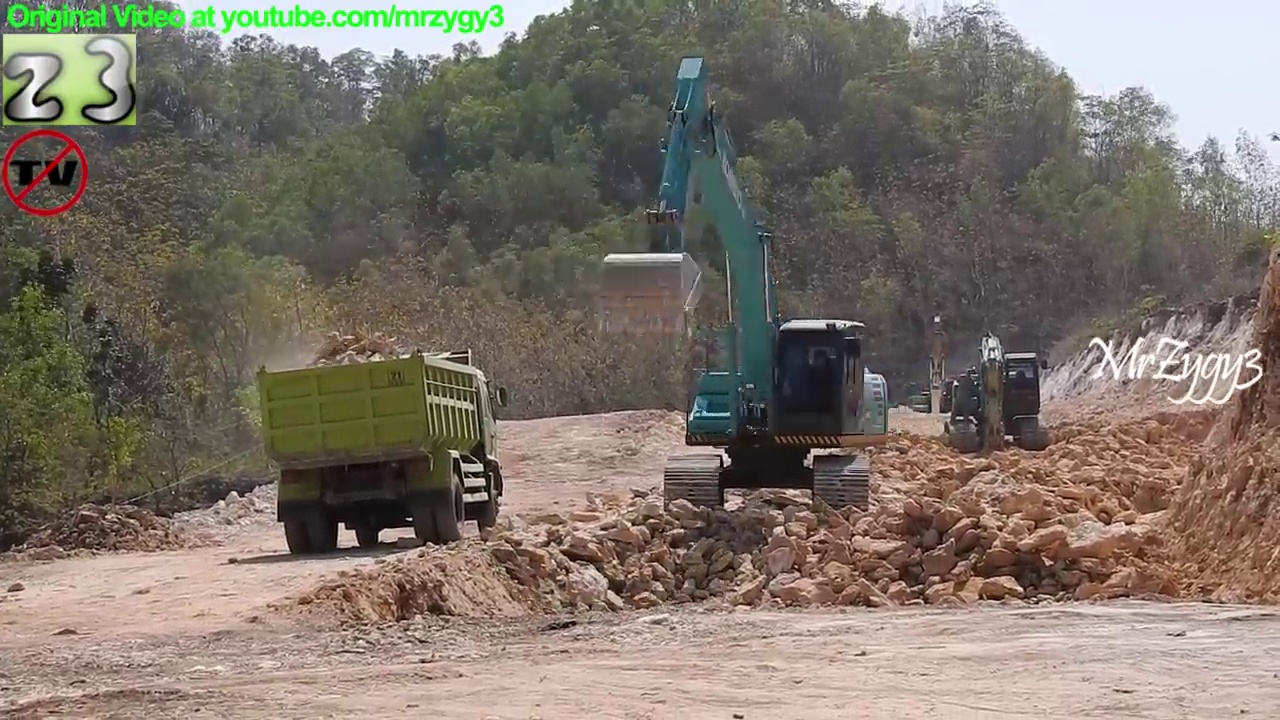excavator: (591, 51, 898, 526), (905, 310, 972, 423)
excavator breaker: (941, 327, 1057, 465)
truck: (250, 343, 516, 565)
